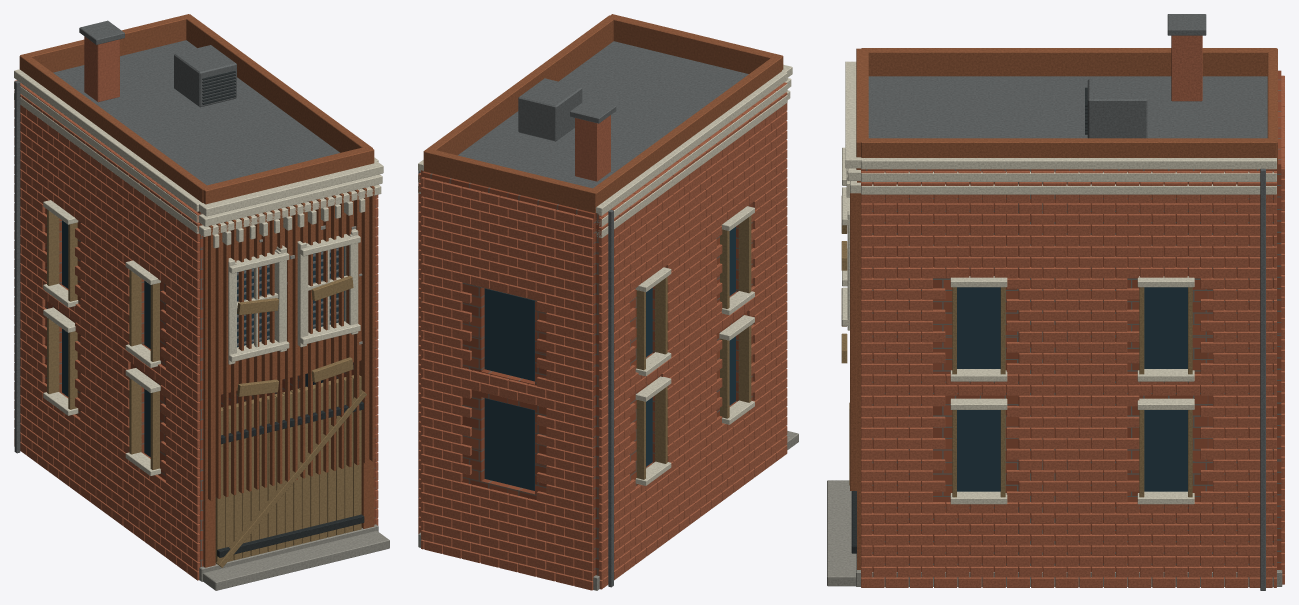
Rendered from CLSTGA20_lod0.glb.
3 views of the same model, side by side, from view 1: azimuth 30°, elevation 25°; view 2: azimuth 150°, elevation 25°; view 3: azimuth 270°, elevation 25° (orthographic). The views are drawn at different scales.
Visible parts, largest first — view 1: CLSTGA20_LOD0; view 2: CLSTGA20_LOD0; view 3: CLSTGA20_LOD0.
Part boxes in pixels (box(x1,y1,x2,y2)): CLSTGA20_LOD0: box(14, 14, 389, 590); CLSTGA20_LOD0: box(418, 14, 798, 590); CLSTGA20_LOD0: box(827, 14, 1284, 590).
Size of the model in its own units: 3.71 by 7.85 by 6.6.
Materials: 12 (10 with a texture image).
